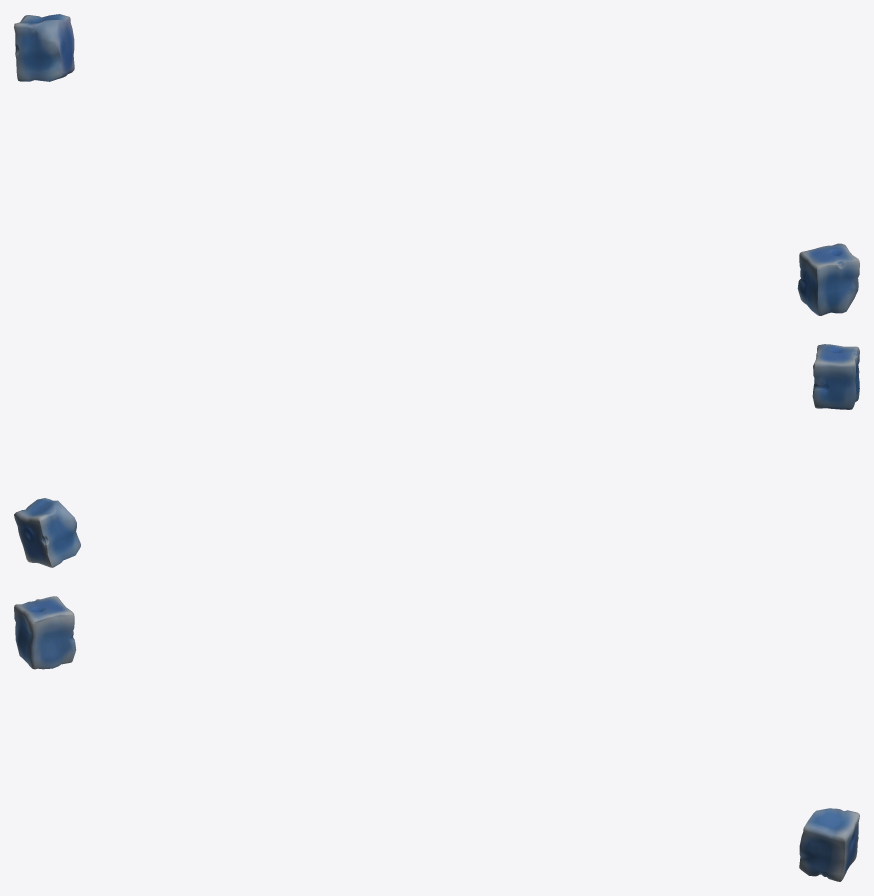
The model's file is p_dlc09_iceblock_02 (10)1.fbx.
3 renders of one model, top to bottom at view 1: azimuth 90°, elevation 25°; view 2: azimuth 150°, elevation 25°; view 3: azimuth 270°, elevation 25°, orthographic. The views are drawn at different scales.
Visible parts, largest first — view 1: p_dlc09_iceblock_02 (10), p_dlc09_iceblock_02 (8); view 2: p_dlc09_iceblock_02 (10), p_dlc09_iceblock_02 (8); view 3: p_dlc09_iceblock_02 (8), p_dlc09_iceblock_02 (10).
Part boxes in pixels (x1=…): p_dlc09_iceblock_02 (10): x1=14, y1=14, x2=74, y2=81; p_dlc09_iceblock_02 (8): x1=797, y1=243, x2=859, y2=315; p_dlc09_iceblock_02 (10): x1=14, y1=498, x2=80, y2=567; p_dlc09_iceblock_02 (8): x1=812, y1=344, x2=859, y2=409; p_dlc09_iceblock_02 (8): x1=14, y1=596, x2=76, y2=669; p_dlc09_iceblock_02 (10): x1=799, y1=808, x2=859, y2=881.
Bounding box in the file's own units: 16.21 × 23.39 × 2.08.
